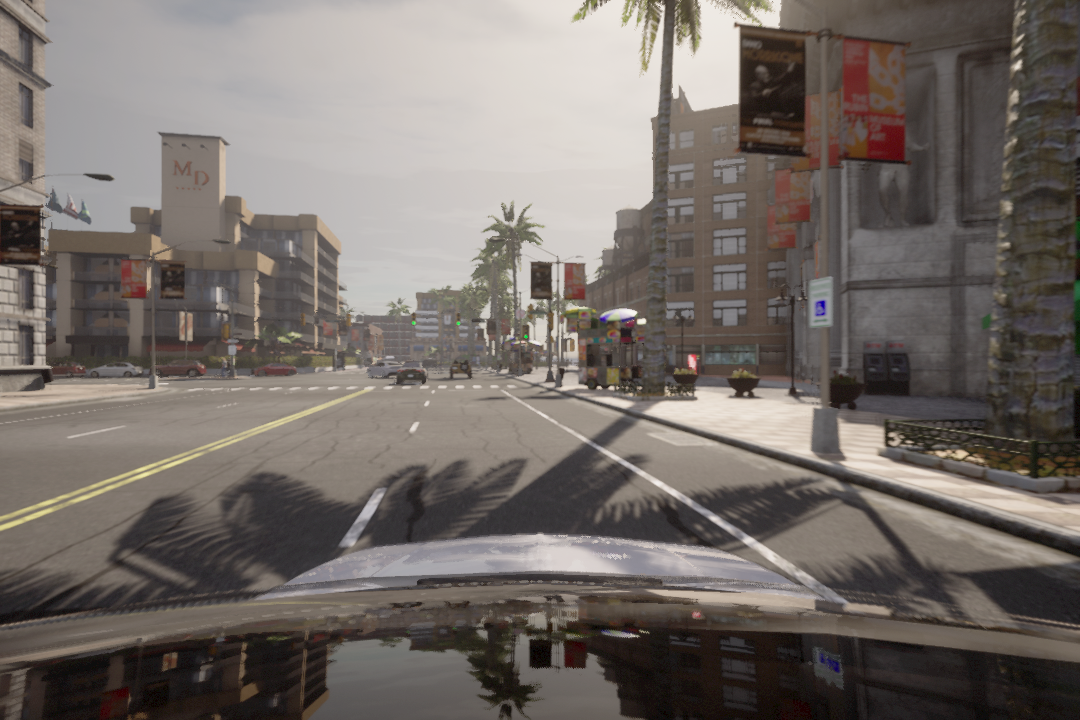TrafficLight: (521, 324, 531, 344), (455, 311, 461, 330), (410, 312, 417, 325)
walkside: (181, 384, 524, 391)
